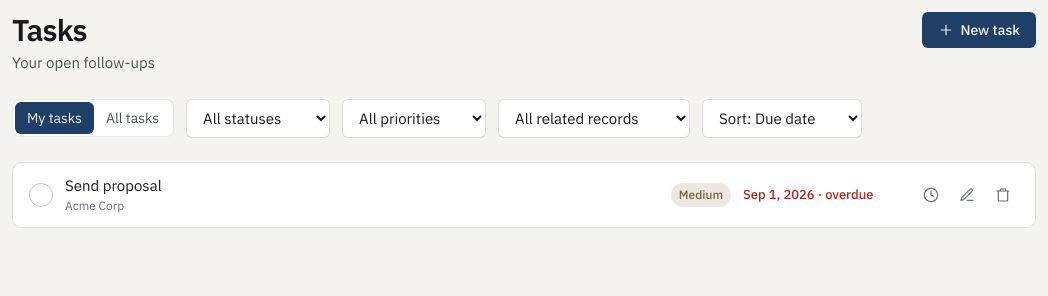
Test: TasksPage › filters › sends an empty owner filter once the all-tasks scope is selected
Expected: the text "Send proposal" is shown, [65,176,162,194]
Step 1. Click the button "All tasks" → click(132, 118), box [94,102,171,134]
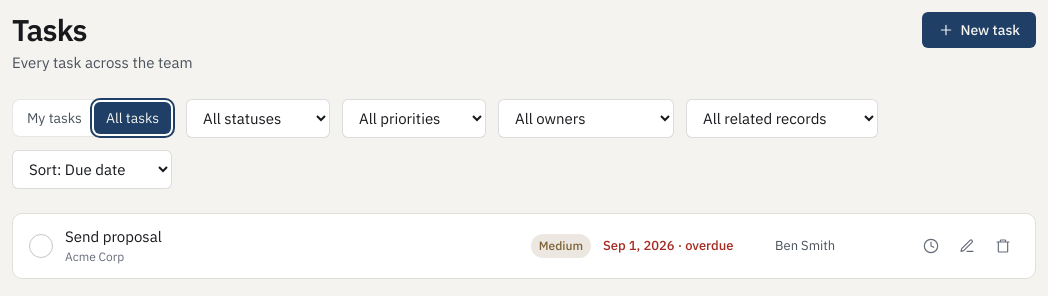
Expected: the text "Every task across the team" is shown, [12,52,192,74]
